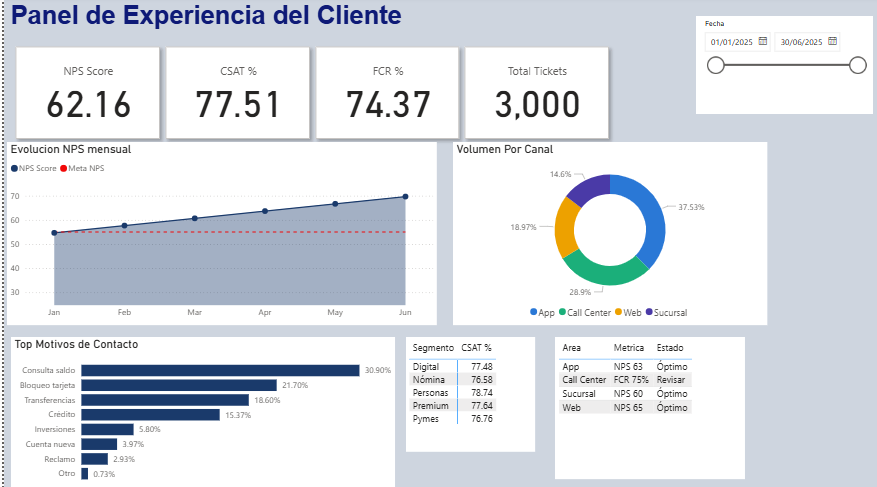

The page's visual inventory and layout, read from the dashboard file:
{"tool":"powerbi","page":{"name":"Page 1","canvas":[1280,720],"ordinal":0},"visuals":[{"type":"cardVisual","fields":{"Data":["Medidas.NPS Score"]},"box":[0,55.6,245.9,169.8],"z":0},{"type":"cardVisual","fields":{"Data":["Medidas.CSAT %"]},"box":[219.5,55.6,245.9,169.8],"z":1000},{"type":"cardVisual","fields":{"Data":["Medidas.FCR %"]},"box":[439,55.6,244.4,169.8],"z":2000},{"type":"cardVisual","fields":{"Data":["Medidas.Total Tickets"]},"box":[657.1,55.6,245.9,169.8],"z":3000},{"type":"barChart","title":"Top Motivos de Contacto","fields":{"Category":["Fact_interaction.motivo"],"Y":["Medidas.Total Tickets"]},"box":[10.2,497.6,562,222.4],"z":4000},{"type":"tableEx","fields":{"Values":["Dim_Canal.canal_nome","Medidas.Metrica Texto","Medidas.Estado Canal"]},"box":[806.3,497.6,278,207.8],"z":5000},{"type":"donutChart","title":"Volumen Por Canal","fields":{"Category":["Dim_Canal.canal_nome"],"Y":["Medidas.Total Tickets"]},"box":[657.1,212.2,459.5,267.8],"z":6000},{"type":"pivotTable","fields":{"Rows":["Dim_Cliente.segmento"],"Values":["Medidas.CSAT %"]},"box":[588.3,497.6,188.8,168.3],"z":7000},{"type":"lineChart","title":"Evolucion NPS mensual ","fields":{"Category":["Dim_Tiempo.Mes Nombre"],"Y":["Medidas.NPS Score","Medidas.Meta NPS"]},"box":[4.4,212.2,629.3,267.8],"z":8000},{"type":"slicer","fields":{"Values":["Dim_Tiempo.fecha"]},"box":[1012.7,27.8,257.6,142],"z":9000},{"type":"textbox","box":[4.4,0,583.9,55.6],"z":10000}]}

Visuals, with their boxes in screenshot pixels (x1, y1, x2, y2), scaled from the page's 1280x720 canvas onto the 877x487 screenshot:
cardVisual - Medidas.NPS Score: {"left": 0, "top": 38, "right": 168, "bottom": 152}
cardVisual - Medidas.CSAT %: {"left": 150, "top": 38, "right": 319, "bottom": 152}
cardVisual - Medidas.FCR %: {"left": 301, "top": 38, "right": 468, "bottom": 152}
cardVisual - Medidas.Total Tickets: {"left": 450, "top": 38, "right": 619, "bottom": 152}
"Top Motivos de Contacto" barChart: {"left": 7, "top": 337, "right": 392, "bottom": 486}
tableEx - Dim_Canal.canal_nome x Medidas.Metrica Texto: {"left": 552, "top": 337, "right": 743, "bottom": 477}
"Volumen Por Canal" donutChart: {"left": 450, "top": 144, "right": 765, "bottom": 325}
pivotTable - Dim_Cliente.segmento x Medidas.CSAT %: {"left": 403, "top": 337, "right": 532, "bottom": 450}
"Evolucion NPS mensual " lineChart: {"left": 3, "top": 144, "right": 434, "bottom": 325}
slicer - Dim_Tiempo.fecha: {"left": 694, "top": 19, "right": 870, "bottom": 115}
textbox: {"left": 3, "top": 0, "right": 403, "bottom": 38}
